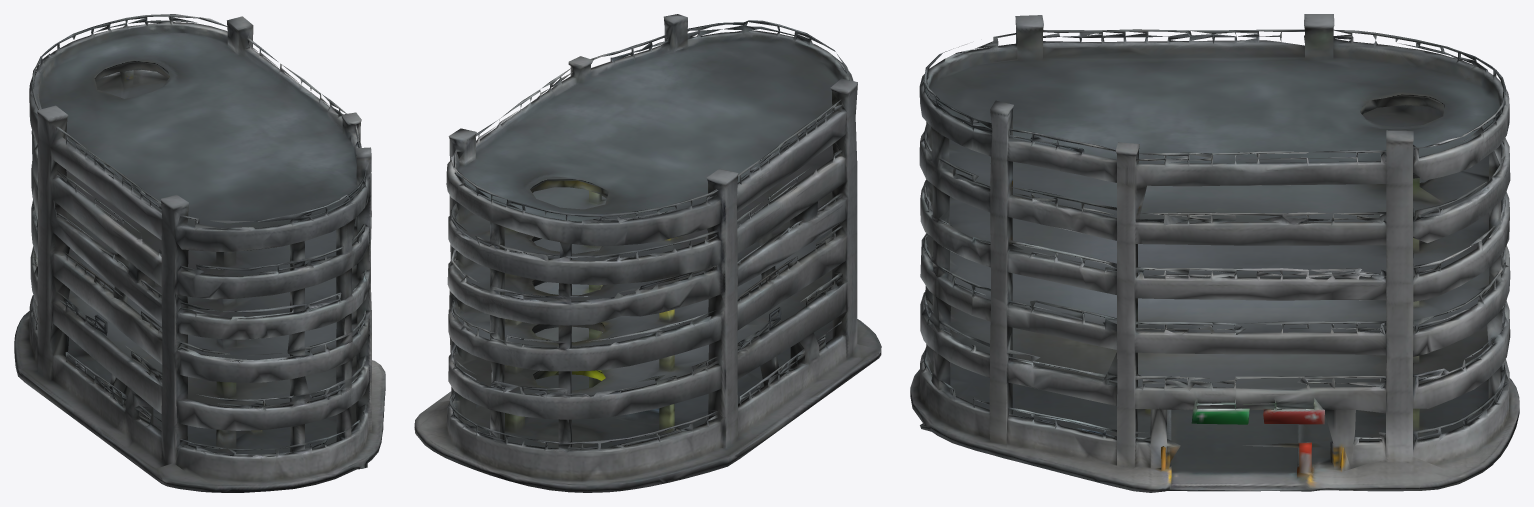
Rendered from car_park.glb.
3 views of the same model, side by side, from view 1: azimuth 30°, elevation 25°; view 2: azimuth 150°, elevation 25°; view 3: azimuth 270°, elevation 25° (orthographic). The views are drawn at different scales.
Parts seen in each view (by area): view 1: tripo_node_0994c966-7d7e-4e6b-96d6-00acb6542362; view 2: tripo_node_0994c966-7d7e-4e6b-96d6-00acb6542362; view 3: tripo_node_0994c966-7d7e-4e6b-96d6-00acb6542362.
Part boxes in pixels (left/top/right/bottom): tripo_node_0994c966-7d7e-4e6b-96d6-00acb6542362: left=14, top=14, right=385, bottom=492; tripo_node_0994c966-7d7e-4e6b-96d6-00acb6542362: left=414, top=14, right=881, bottom=492; tripo_node_0994c966-7d7e-4e6b-96d6-00acb6542362: left=910, top=14, right=1519, bottom=492.
Bounding box in the file's own units: 0.6372 × 0.6202 × 1.
1 material, 1 textured.
